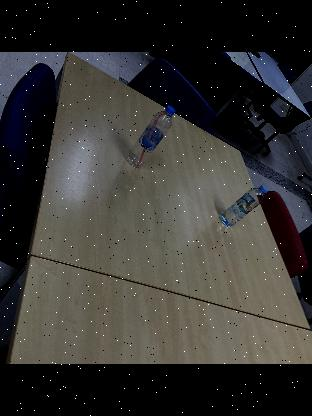Plastic Bottle: (126, 105, 174, 169), (218, 184, 268, 228)
